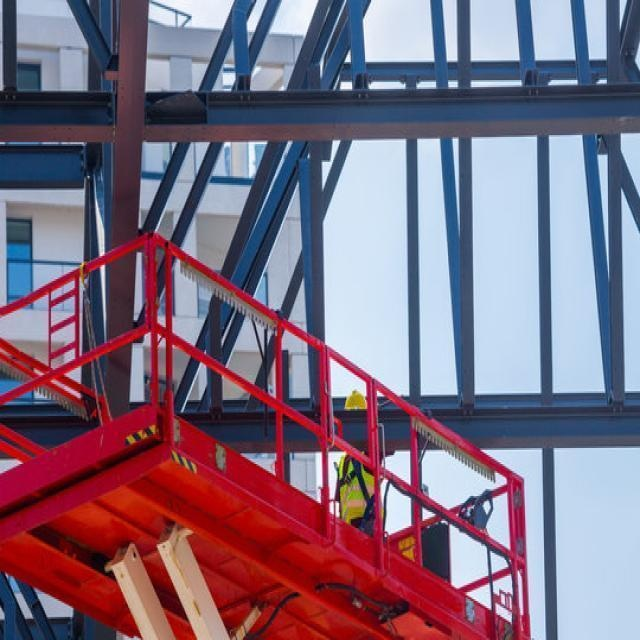Arnes_seguridad: (335, 452, 377, 527)
